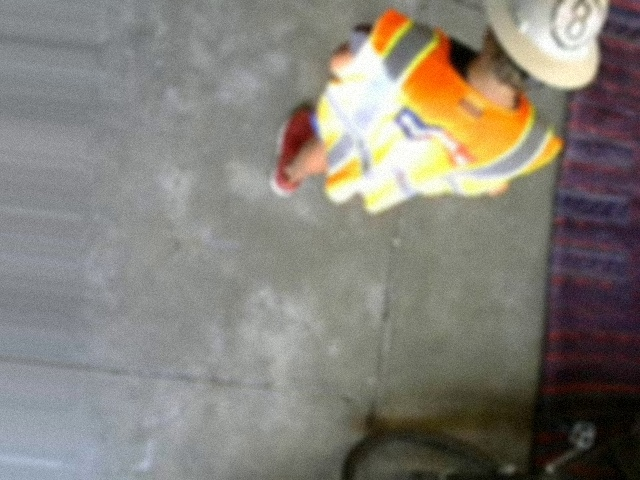eight: (549, 0, 605, 55)
